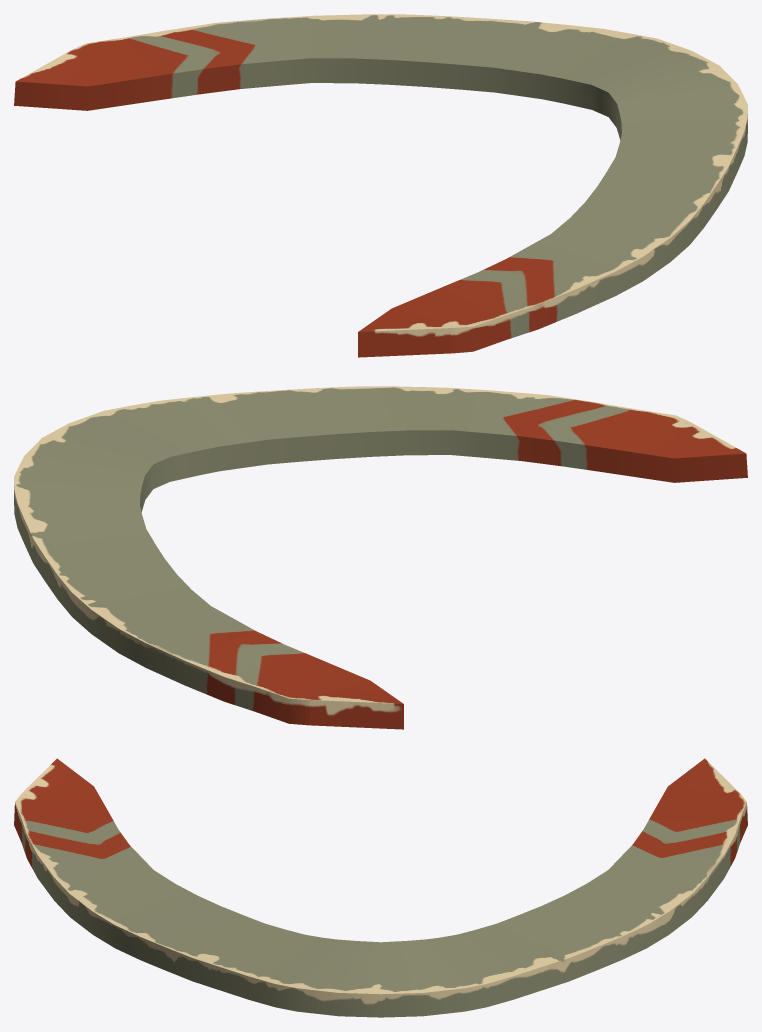
The model's file is Boomerang.fbx.
3 views of the same model, one above another, from view 1: azimuth 30°, elevation 25°; view 2: azimuth 150°, elevation 25°; view 3: azimuth 270°, elevation 25° (orthographic). The views are drawn at different scales.
Visible parts, largest first — view 1: Boomerang_external; view 2: Boomerang_external; view 3: Boomerang_external.
Boxes of the visible parts, x1,y1,x2,y2 form: Boomerang_external: (14, 14, 747, 357); Boomerang_external: (14, 386, 747, 729); Boomerang_external: (14, 758, 747, 1017).
Size of the model in its own units: 1.15 by 0.0822 by 1.45.
